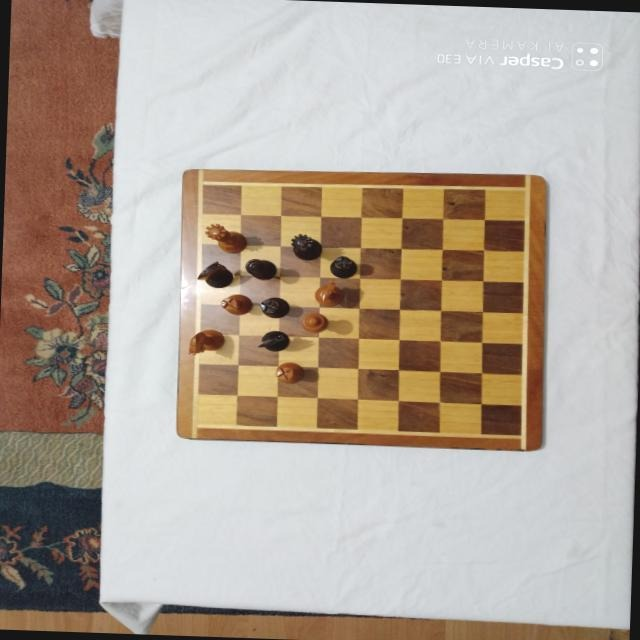black-king: (243, 256, 276, 279)
black-knight: (196, 260, 232, 288), (255, 328, 289, 351)
black-queen: (289, 232, 322, 259)
black-rook: (258, 294, 289, 317), (329, 253, 357, 278)
white-king: (299, 311, 328, 333)
white-knight: (188, 328, 224, 354), (312, 278, 343, 305)
white-queen: (202, 221, 245, 252)
white-rook: (219, 293, 252, 315), (274, 360, 302, 383)
